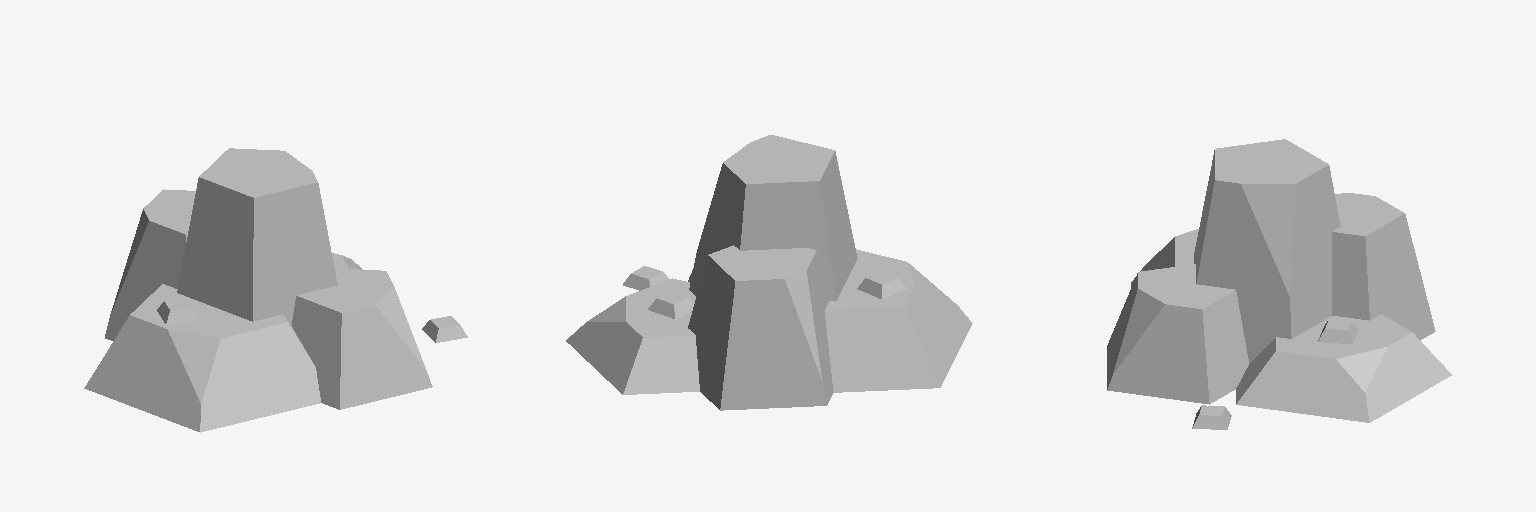
File: rockb.obj
3 renders of one model, left to right at view 1: azimuth 30°, elevation 25°; view 2: azimuth 150°, elevation 25°; view 3: azimuth 270°, elevation 25°, orthographic.
Visible parts, largest first — view 1: rockb; view 2: rockb; view 3: rockb.
Boxes of the visible parts, box(x1,y1,x2,y2) form: rockb: box(84, 148, 467, 432); rockb: box(566, 135, 972, 410); rockb: box(1107, 139, 1451, 429).
Size of the model in its own units: 0.8346 by 0.4186 by 0.7247.